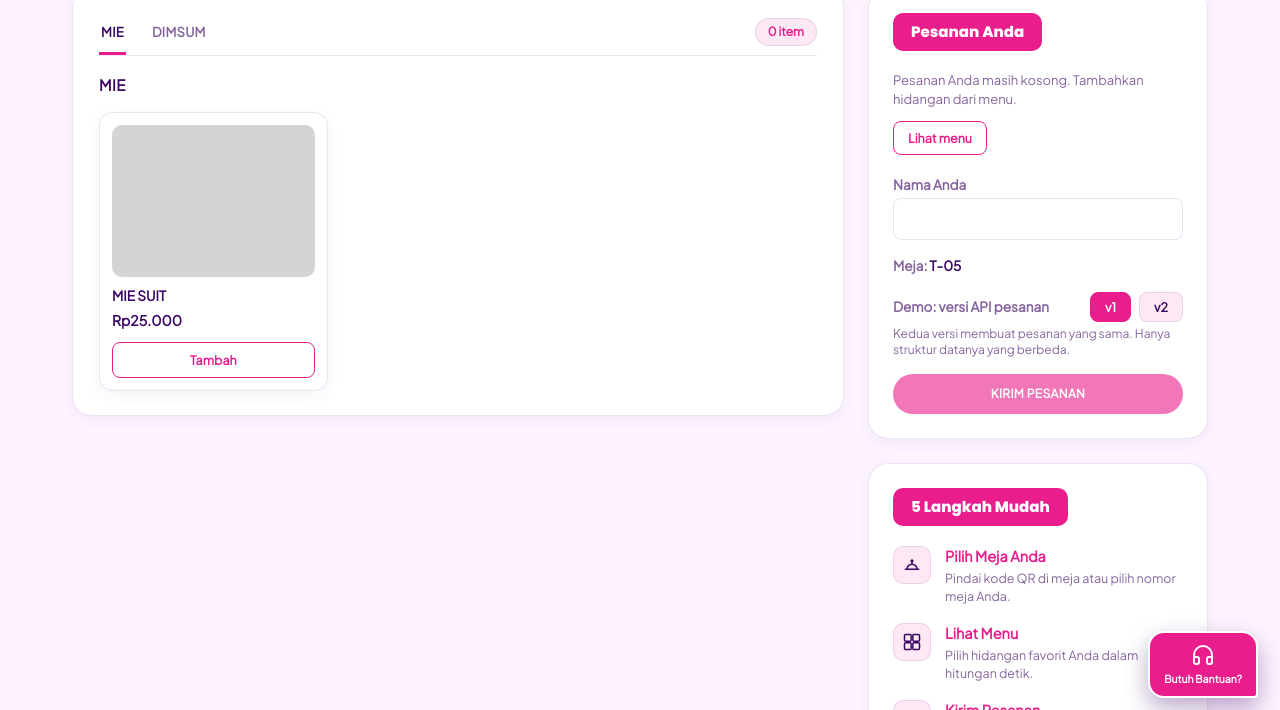
OrderPage › lets a guest order from a QR link and shows the receipt with the API version used
This screenshot has width=1280, height=710.
(page scrolled)
Click the button with aria-label "Tambah, Mie Suit" at [213, 360], box [112,342,315,378]
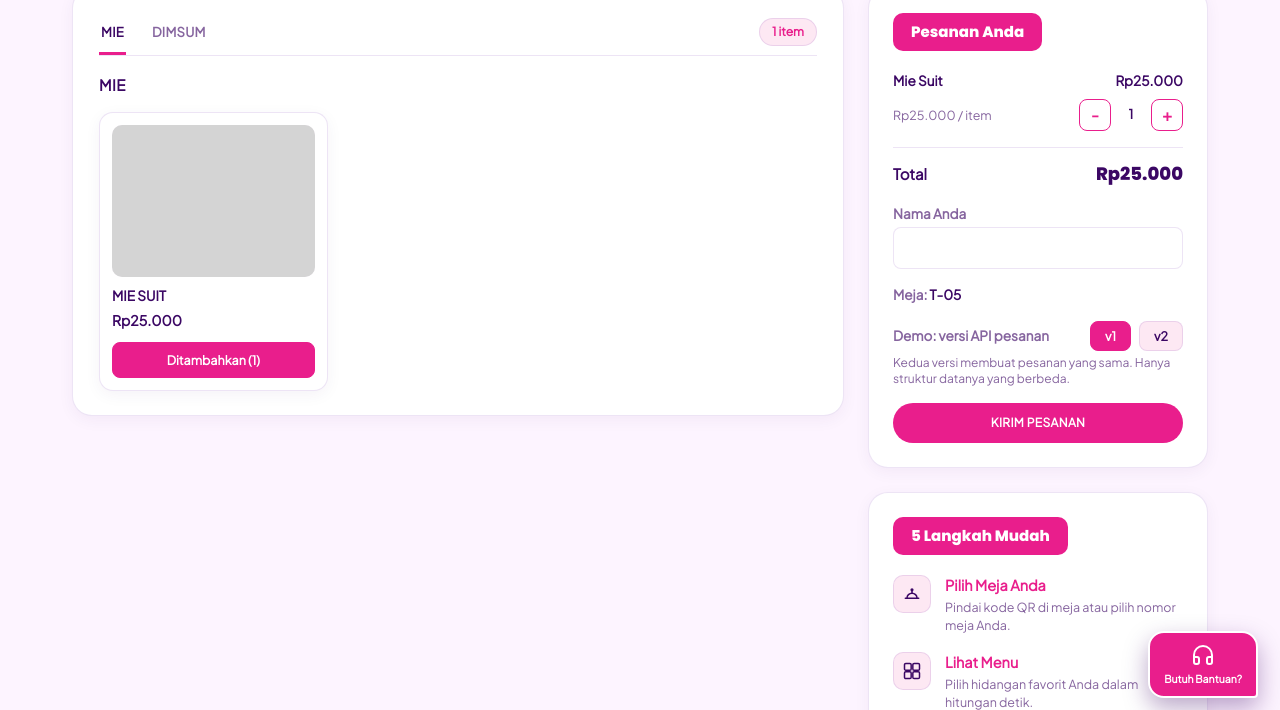
Click the button named "Tambah, Mie Suit" at [213, 360], box [112,342,315,378]
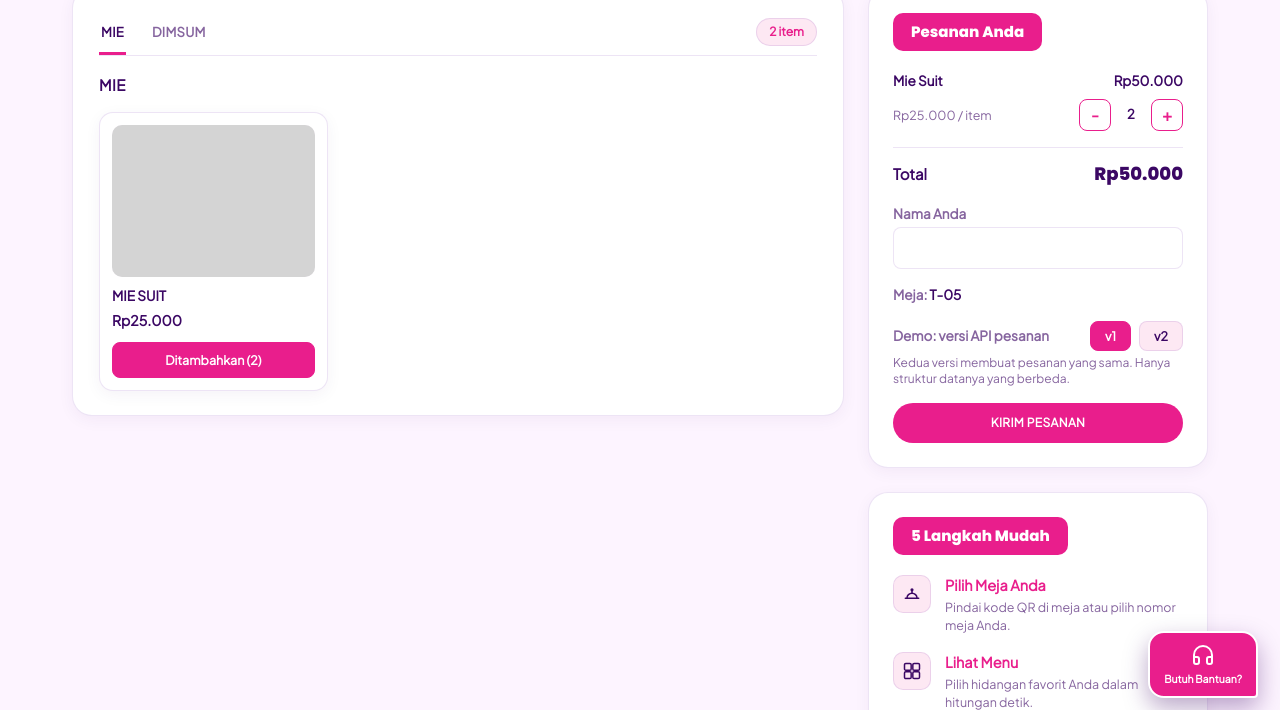
Type "Budi" into the field labelled "Nama Anda" at [1038, 248], box [893,227,1183,269]
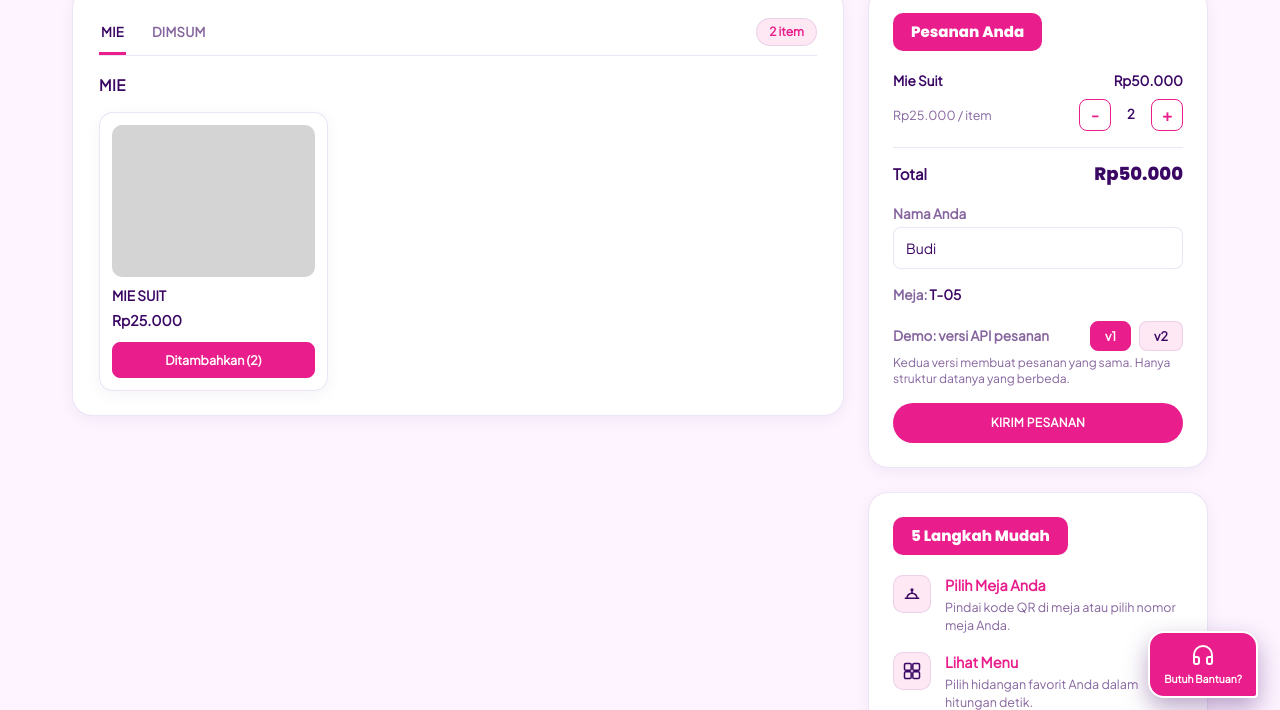
Click the button "Kirim Pesanan" at [1038, 423], box [893,403,1183,443]
(page scrolled)
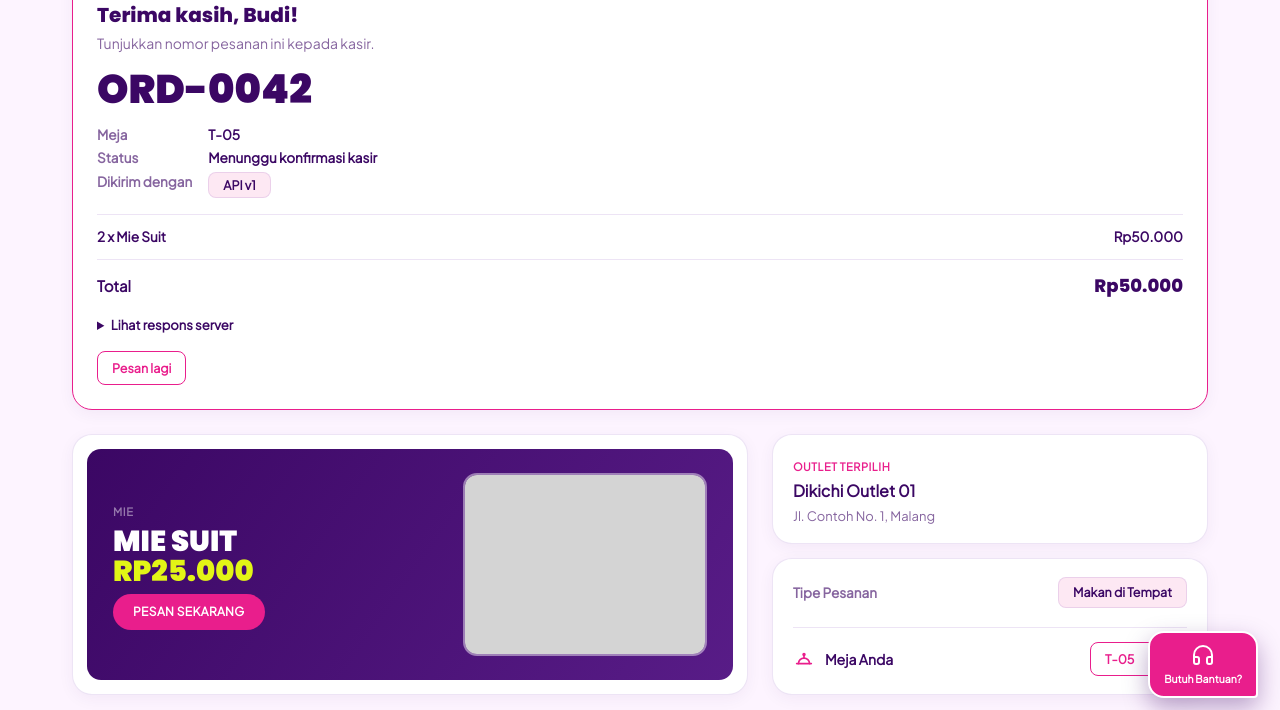
Now the text "ORD-0042" is shown, box [97,61,312,117]
Now the text "API v1" is shown, box [208,172,271,198]
